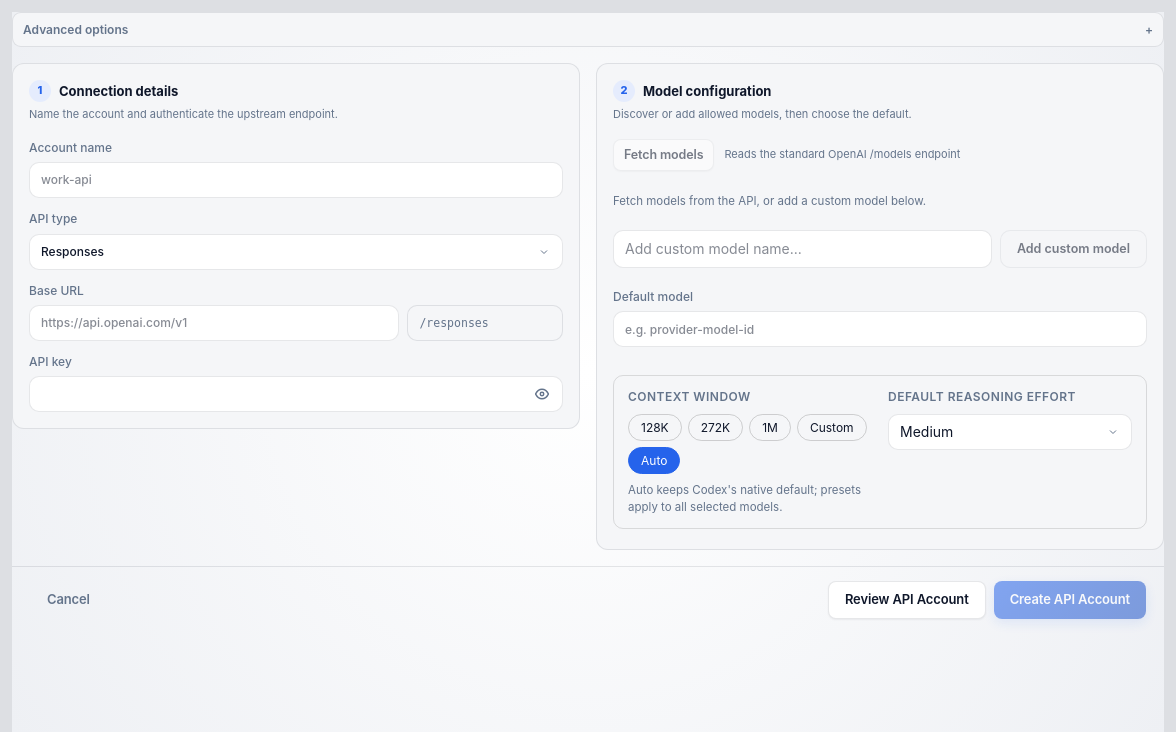
Test case: ApiAccountFlow › groups API type with Base URL and exposes the derived read-only endpoint suffix
expect the button "Chat Completions" is not shown: met
expect the field named "Endpoint suffix" holds "/responses": met, box left=407, top=305, right=563, bottom=341
Select "Chat Completions" in the dropdown labelled "API type" at coordinates (296, 252), box left=29, top=234, right=563, bottom=270
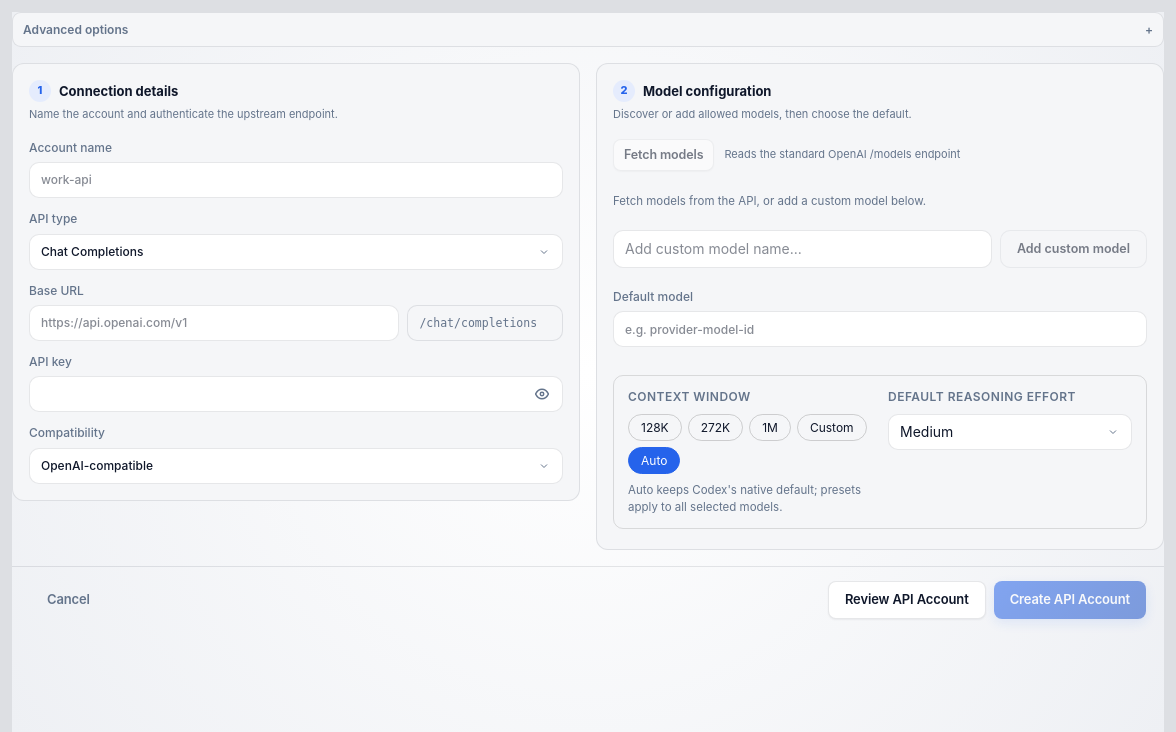
expect the field named "Endpoint suffix" holds "/chat/completions": met, box left=407, top=305, right=563, bottom=341
expect the dropdown labelled "Compatibility" is shown: met, box left=29, top=448, right=563, bottom=484
